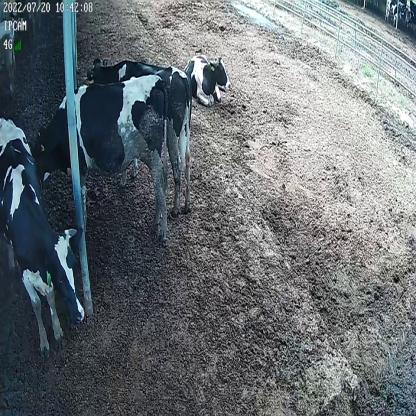cow: (33, 76, 170, 246), (0, 113, 87, 347), (84, 56, 195, 215), (183, 45, 230, 106)
